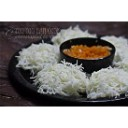idiyappam: (37, 63, 82, 93), (88, 68, 128, 98), (21, 40, 59, 69)
